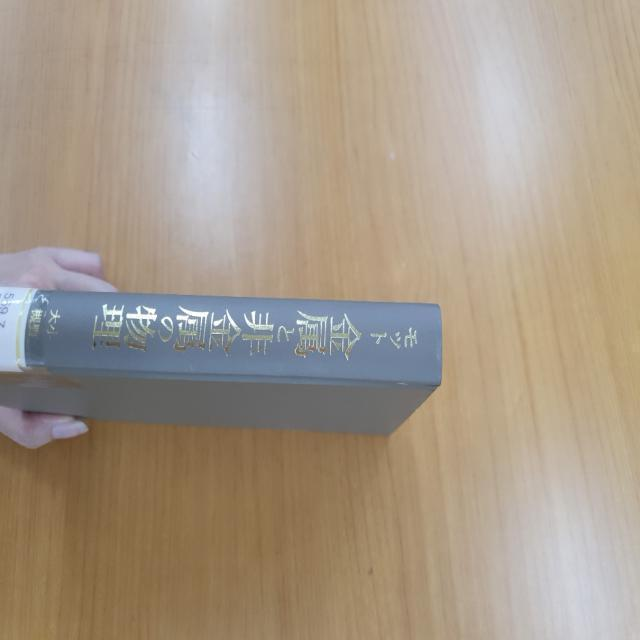Wornout: (392, 380, 415, 388)
